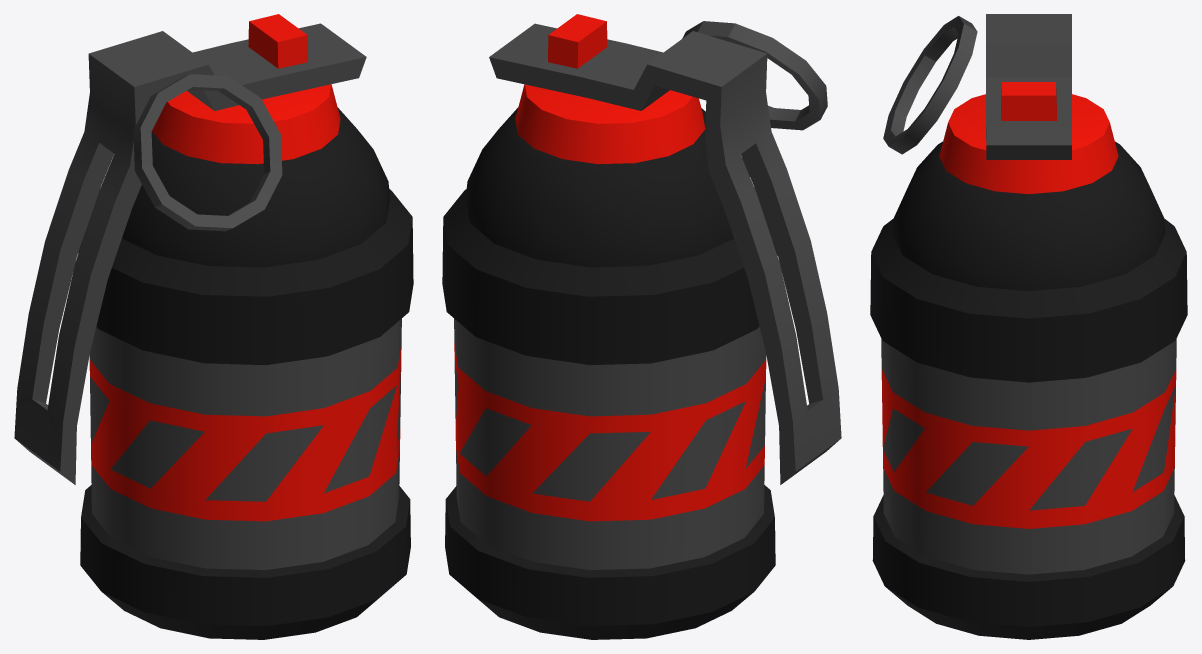
Rendered from grenade3-food.fbx.
3 renders of one model, left to right at view 1: azimuth 30°, elevation 25°; view 2: azimuth 150°, elevation 25°; view 3: azimuth 270°, elevation 25°, orthographic. The views are drawn at different scales.
Parts seen in each view (by area): view 1: grenade3-food; view 2: grenade3-food; view 3: grenade3-food.
Part boxes in pixels (box(x1,y1,x2,y2)): grenade3-food: box(14, 14, 413, 639); grenade3-food: box(442, 14, 841, 639); grenade3-food: box(870, 14, 1187, 639).
Size of the model in its own units: 0.0959 by 0.1432 by 0.0793.
